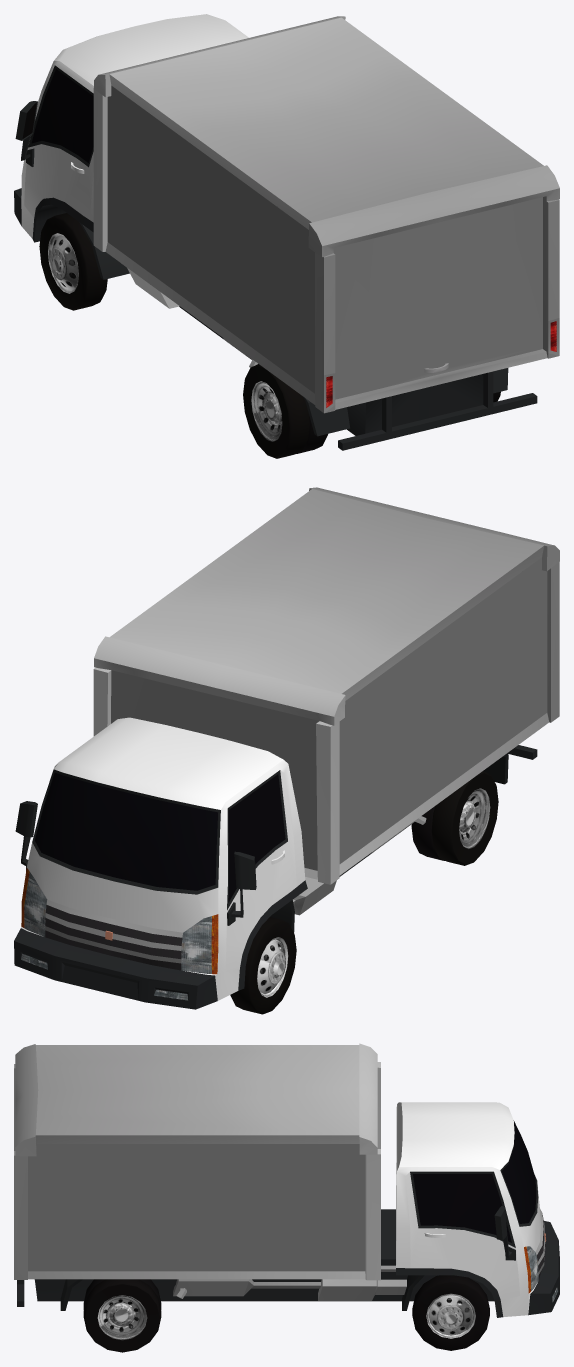
The model's file is aq-box-van.glb.
The picture shows the model from 3 angles, top to bottom: view 1: azimuth 30°, elevation 25°; view 2: azimuth 150°, elevation 25°; view 3: azimuth 270°, elevation 25°; orthographic projection. The views are drawn at different scales.
Visible parts, largest first — view 1: box-van-silvertrim.017, box-van-Cube.174, box-van-blackparts.018, box-van-paint.018, box-van-windows.018, box-van-tire.068, box-van-tire.067, box-van-rim.072, box-van-rim.073; view 2: box-van-silvertrim.017, box-van-Cube.174, box-van-paint.018, box-van-windows.018, box-van-blackparts.018, box-van-tire.068, box-van-grills.018, box-van-headlights.027, box-van-tire.067, box-van-rim.072, box-van-rim.073, box-van-blinkers.012; view 3: box-van-silvertrim.017, box-van-Cube.174, box-van-paint.018, box-van-blackparts.018, box-van-windows.018, box-van-tire.069, box-van-tire.070, box-van-rim.075, box-van-rim.074, box-van-headlights.027.
Part boxes in pixels (x1=…): box-van-silvertrim.017: x1=93, y1=16, x2=559, y2=413; box-van-Cube.174: x1=107, y1=85, x2=542, y2=399; box-van-blackparts.018: x1=14, y1=65, x2=537, y2=450; box-van-paint.018: x1=21, y1=14, x2=248, y2=238; box-van-windows.018: x1=22, y1=69, x2=93, y2=162; box-van-tire.068: x1=243, y1=364, x2=327, y2=458; box-van-tire.067: x1=39, y1=213, x2=107, y2=310; box-van-rim.072: x1=48, y1=233, x2=78, y2=293; box-van-rim.073: x1=251, y1=381, x2=282, y2=441; box-van-silvertrim.017: x1=45, y1=487, x2=559, y2=963; box-van-Cube.174: x1=111, y1=557, x2=547, y2=870; box-van-paint.018: x1=21, y1=717, x2=305, y2=1000; box-van-windows.018: x1=35, y1=772, x2=285, y2=902; box-van-blackparts.018: x1=14, y1=745, x2=537, y2=1009; box-van-tire.068: x1=411, y1=771, x2=498, y2=865; box-van-grills.018: x1=45, y1=905, x2=182, y2=970; box-van-headlights.027: x1=21, y1=872, x2=211, y2=1000; box-van-tire.067: x1=230, y1=917, x2=296, y2=1014; box-van-rim.072: x1=257, y1=937, x2=288, y2=997; box-van-rim.073: x1=459, y1=788, x2=490, y2=848; box-van-blinkers.012: x1=21, y1=867, x2=218, y2=974; box-van-silvertrim.017: x1=14, y1=1043, x2=545, y2=1300; box-van-Cube.174: x1=28, y1=1144, x2=365, y2=1271; box-van-paint.018: x1=396, y1=1102, x2=540, y2=1316; box-van-blackparts.018: x1=17, y1=1134, x2=559, y2=1317; box-van-windows.018: x1=413, y1=1120, x2=536, y2=1242; box-van-tire.069: x1=83, y1=1279, x2=161, y2=1352; box-van-tire.070: x1=412, y1=1275, x2=489, y2=1350; box-van-rim.075: x1=426, y1=1293, x2=475, y2=1338; box-van-rim.074: x1=97, y1=1295, x2=147, y2=1340; box-van-headlights.027: x1=526, y1=1246, x2=557, y2=1302.
Bounding box in the file's own units: 2.26 × 2.49 × 5.56.
11 materials, 8 textured.
